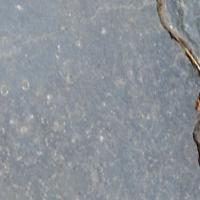crack: (137, 0, 199, 176)
